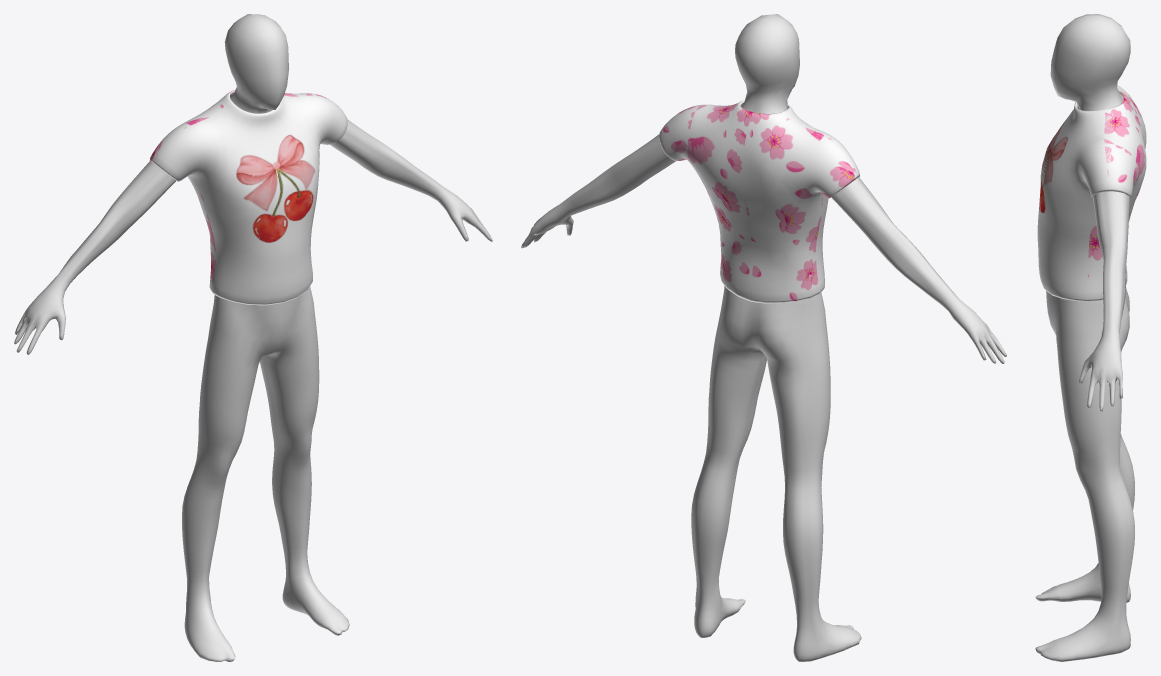
Rendered from Basic Tee2 Catalog_Model.fbx.
3 views of the same model, side by side, from view 1: azimuth 30°, elevation 25°; view 2: azimuth 150°, elevation 25°; view 3: azimuth 270°, elevation 25° (orthographic).
Parts seen in each view (by area): view 1: Player, Basic Tee1, Basic Tee3; view 2: Player, Basic Tee3, Basic Tee1; view 3: Player, Basic Tee1, Basic Tee3.
Part boxes in pixels (left/top/right/bottom): Player: left=14, top=14, right=492, bottom=661; Basic Tee1: left=151, top=90, right=347, bottom=305; Basic Tee3: left=149, top=89, right=329, bottom=293; Player: left=521, top=14, right=1006, bottom=661; Basic Tee3: left=659, top=101, right=856, bottom=303; Basic Tee1: left=692, top=100, right=859, bottom=293; Player: left=1035, top=14, right=1134, bottom=661; Basic Tee1: left=1037, top=90, right=1123, bottom=301; Basic Tee3: left=1075, top=85, right=1146, bottom=301.
Bounding box in the file's own units: 2318 × 2864 × 472.
3 materials, 3 textured.
